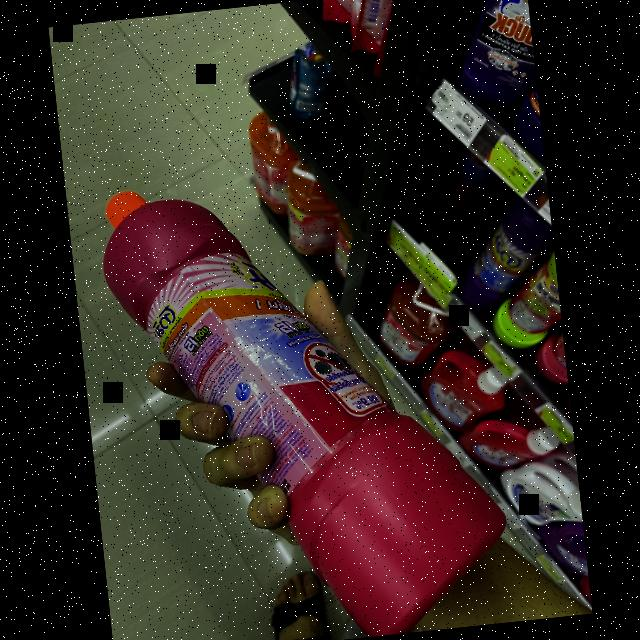chemical_plastic_bottle: (91, 144, 523, 640)
